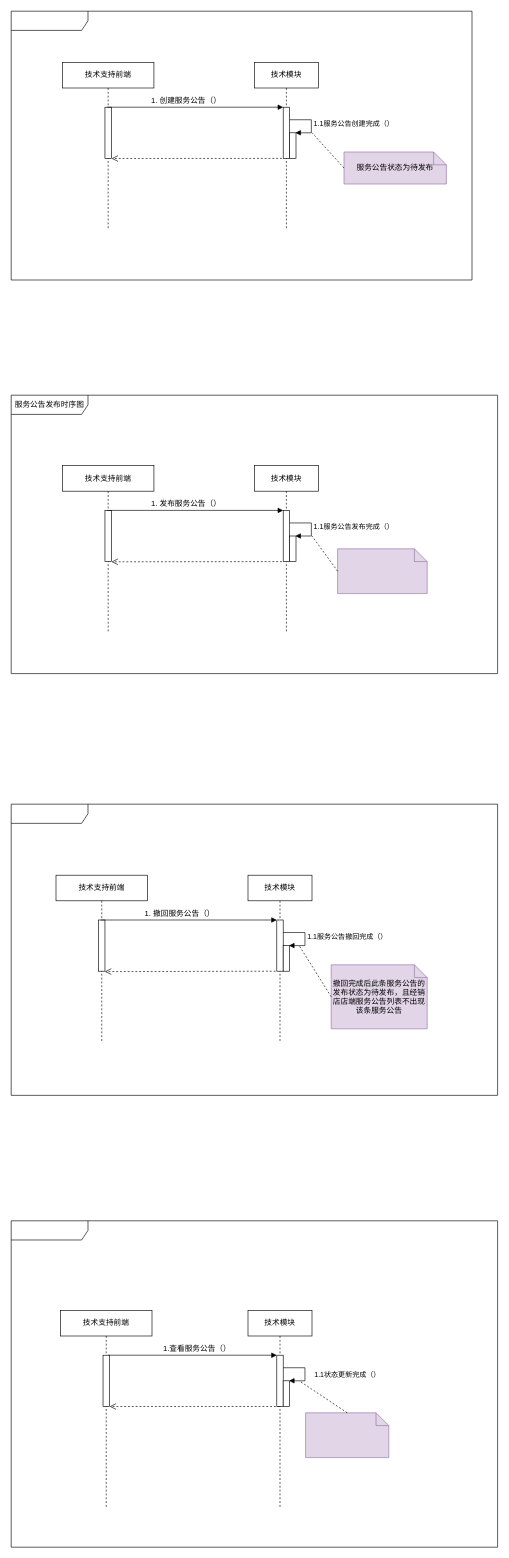
Some shapes in this 509 by 1558 pixel diagram are drawn without their labels. The shapes that lost their labels are listed below. From the top down, each one's box as (x1, y1, x2, y2) in pixels, then its label:
(11, 11, 472, 280): 服务公告创建时序图
(337, 548, 427, 594): 发布至所有经销店，状态修改为已发布
(11, 804, 498, 1095): 服务公告撤回时序图
(11, 1220, 498, 1547): 服务公告查看时序图
(305, 1412, 389, 1458): 更新服务公告状态 为已查看
